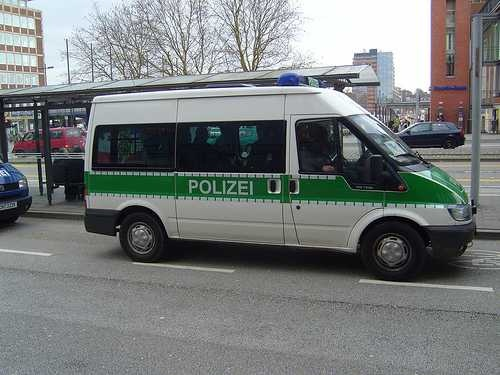Police Van: (69, 55, 487, 269)
